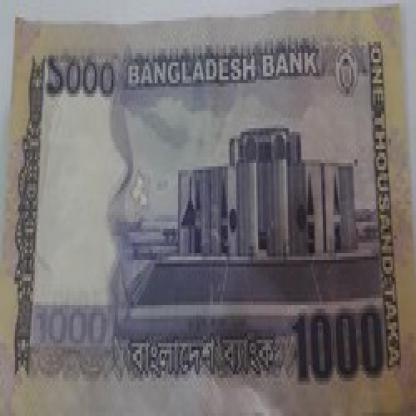One Thousand taka: (290, 301, 384, 384), (33, 302, 108, 350), (46, 52, 116, 101)
